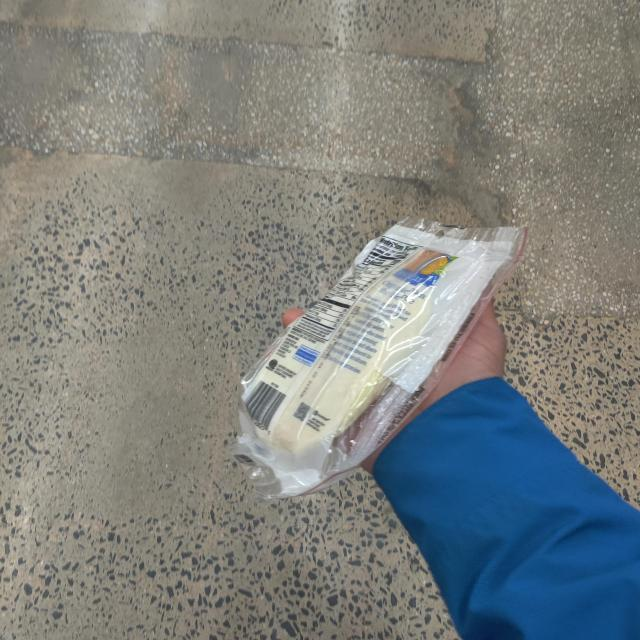Cheese: (238, 220, 526, 484)
